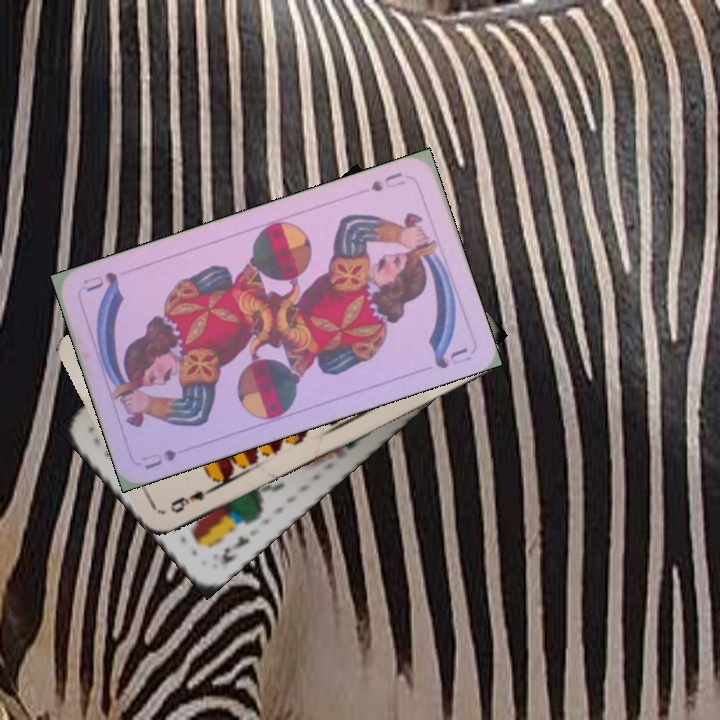E9: (166, 482, 218, 516)
EK: (216, 531, 253, 567)
SU: (366, 167, 408, 194), (138, 445, 179, 472)
